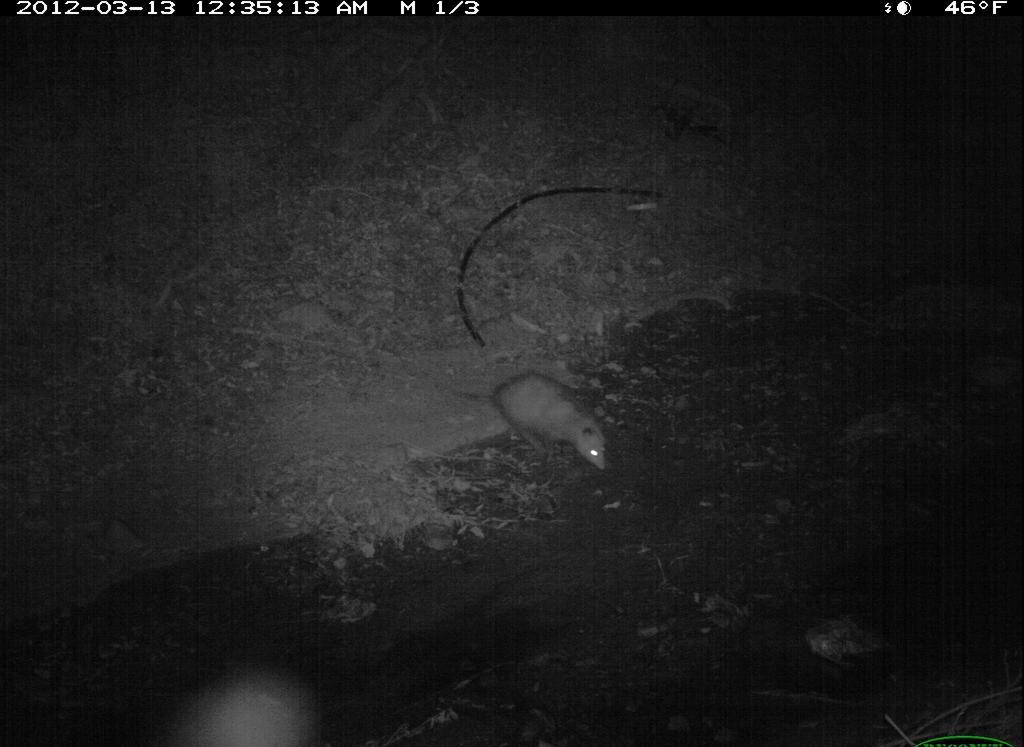opossum: (446, 364, 620, 487)
